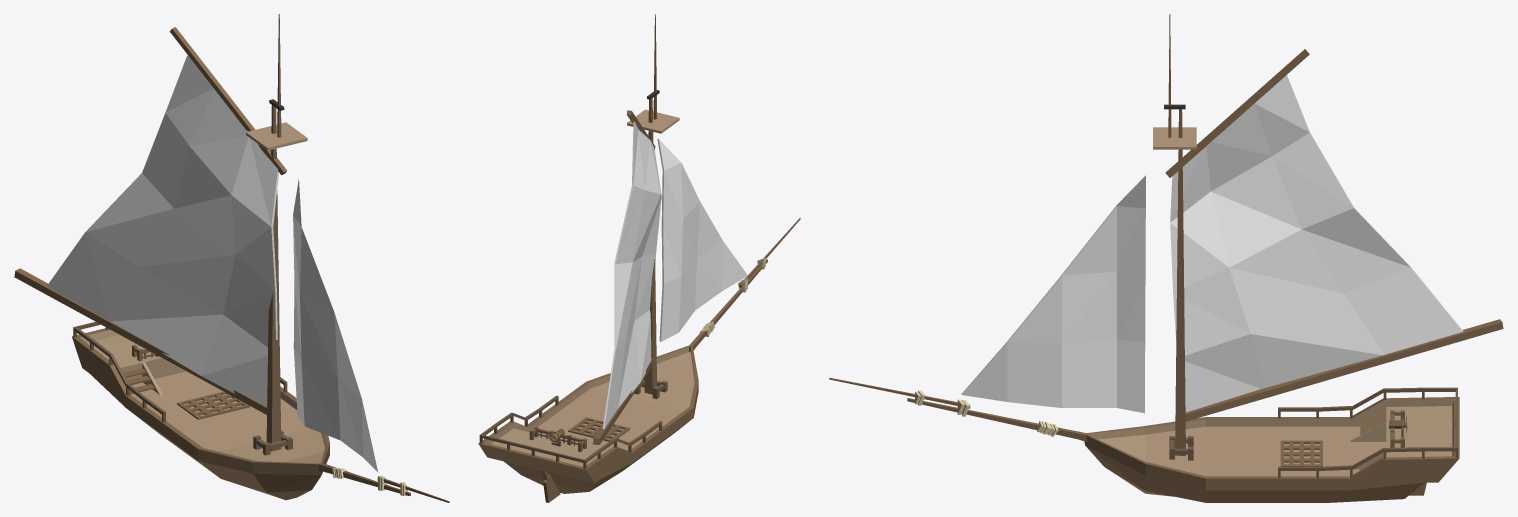
The model's file is Schooner.fbx.
3 renders of one model, left to right at view 1: azimuth 30°, elevation 25°; view 2: azimuth 150°, elevation 25°; view 3: azimuth 270°, elevation 25°, orthographic. The views are drawn at different scales.
Visible parts, largest first — view 1: Schooner; view 2: Schooner; view 3: Schooner.
Part boxes in pixels (x1=…): Schooner: x1=14, y1=14, x2=449, y2=502; Schooner: x1=478, y1=14, x2=800, y2=502; Schooner: x1=829, y1=14, x2=1503, y2=502.
Size of the model in its own units: 213 by 601 by 761.
1 material, 1 textured.
